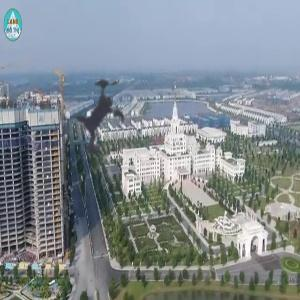drone: (35, 47, 171, 183)
